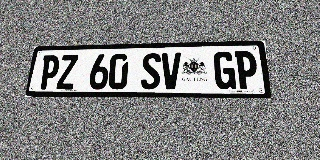0: (108, 54, 129, 89)
6: (88, 54, 110, 89)
G: (213, 51, 236, 89)
P: (234, 51, 259, 89), (38, 55, 61, 89)
S: (141, 53, 161, 89)
V: (161, 52, 181, 89)
Z: (56, 55, 78, 89)
